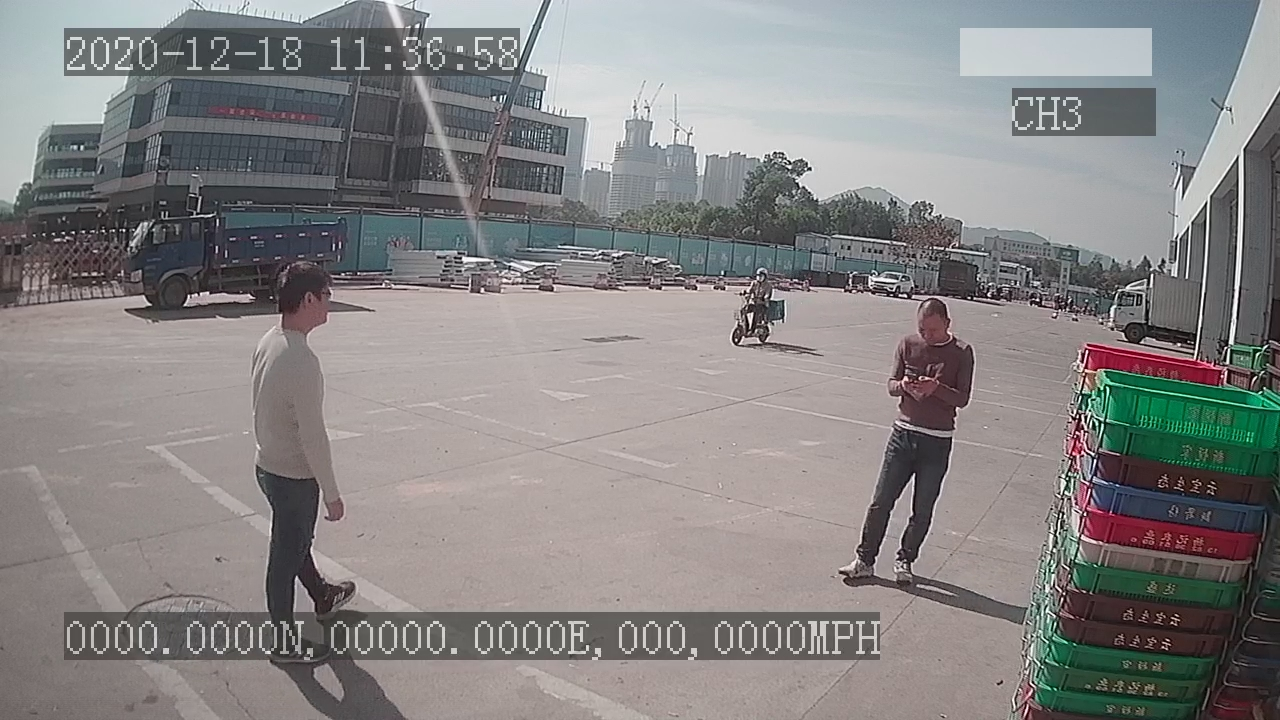person: (832, 295, 973, 590)
